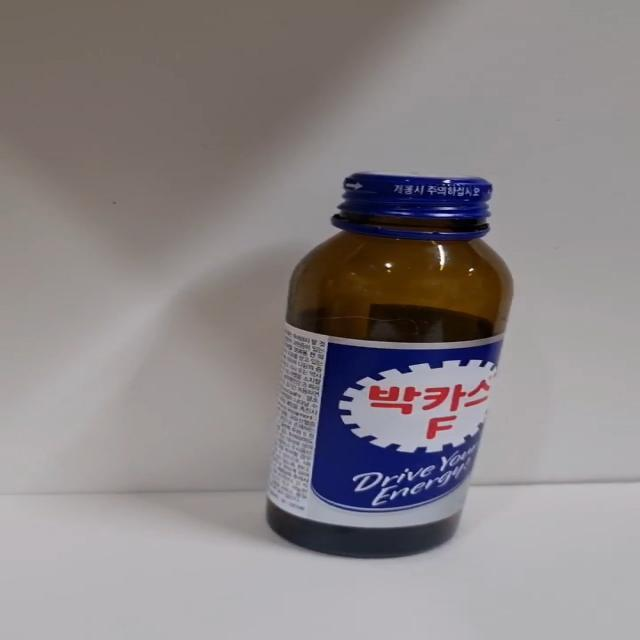Glass: (264, 173, 515, 562)
